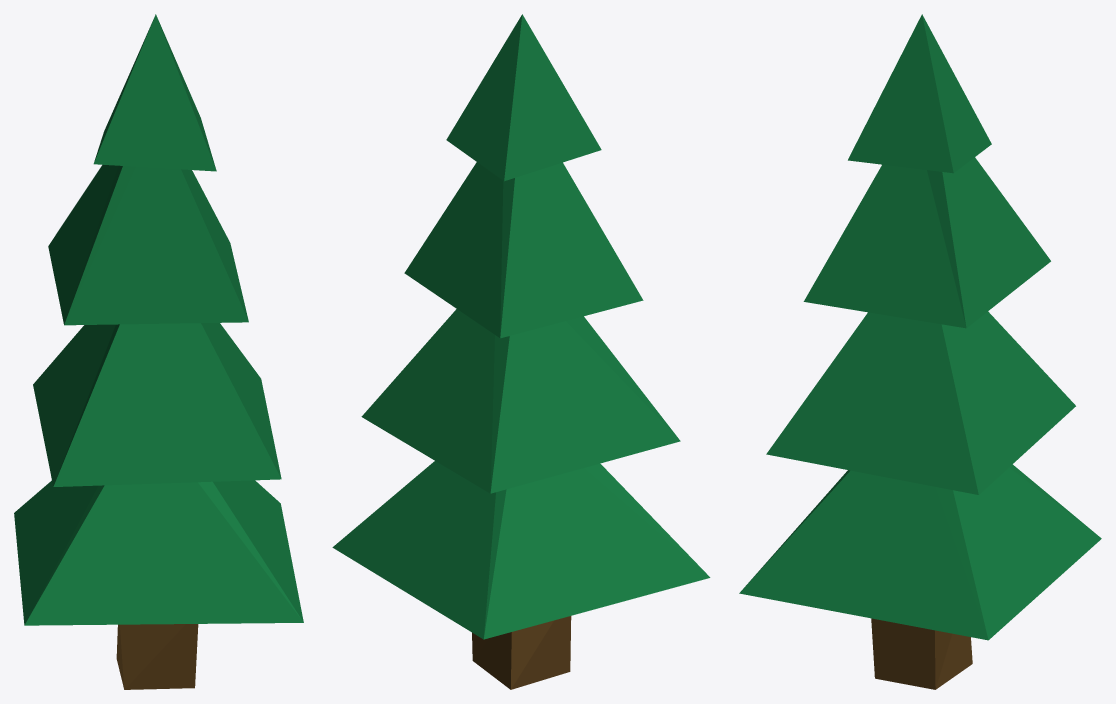
File: 240519_tree_spruce_01.glb
The picture shows the model from 3 angles, left to right: view 1: azimuth 30°, elevation 25°; view 2: azimuth 150°, elevation 25°; view 3: azimuth 270°, elevation 25°; orthographic projection.
Parts seen in each view (by area): view 1: Cube.003; view 2: Cube.003; view 3: Cube.003.
Part boxes in pixels (bbox=[...]): Cube.003: bbox=[14, 14, 303, 689]; Cube.003: bbox=[332, 14, 710, 689]; Cube.003: bbox=[739, 14, 1101, 689].
Size of the model in its own units: 2.61 by 5.15 by 2.58.
